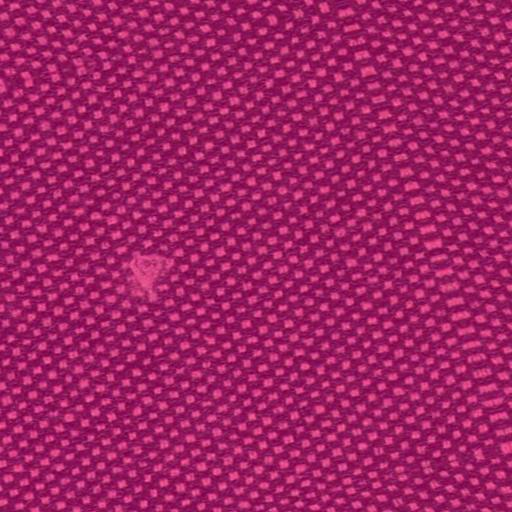knot: (122, 244, 180, 307)
